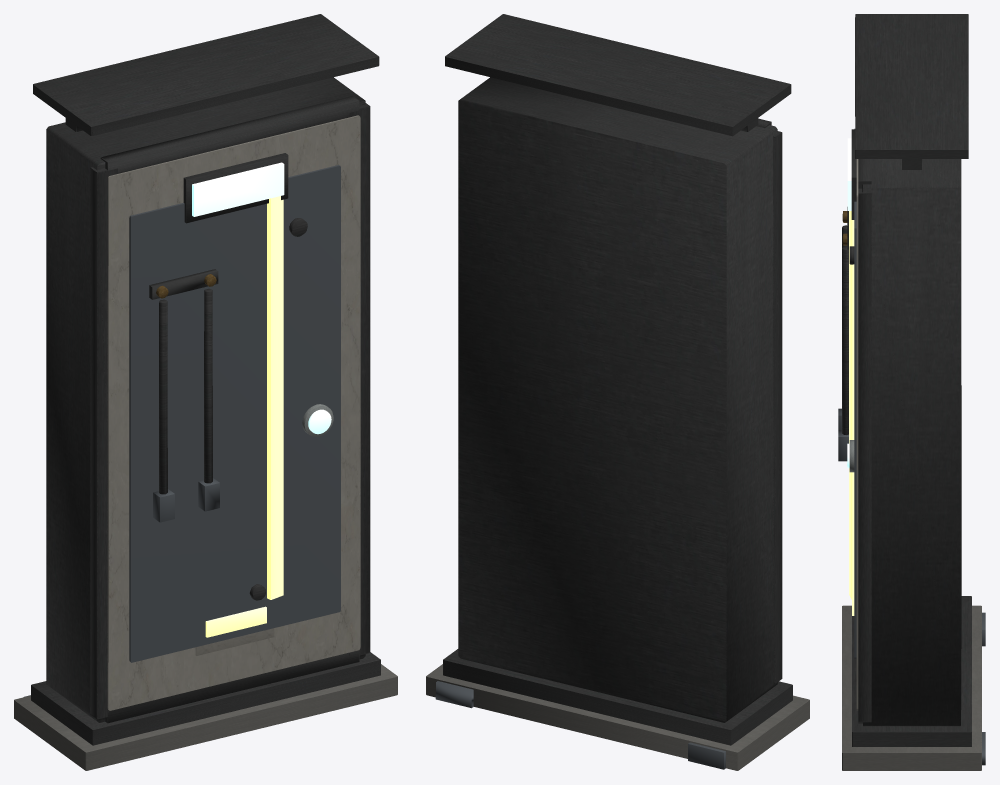
File: hp_room_l01_p03.glb
3 views of the same model, side by side, from view 1: azimuth 30°, elevation 25°; view 2: azimuth 150°, elevation 25°; view 3: azimuth 270°, elevation 25° (orthographic). The views are drawn at different scales.
Parts seen in each view (by area): view 1: room_l01_p03; view 2: room_l01_p03; view 3: room_l01_p03.
Boxes of the visible parts, left/top/right/bottom form: room_l01_p03: left=14, top=14, right=397, bottom=770; room_l01_p03: left=426, top=14, right=809, bottom=770; room_l01_p03: left=838, top=14, right=985, bottom=770.
Bounding box in the file's own units: 1.04 × 2.02 × 0.44.
Materials: 9 (6 with a texture image).
